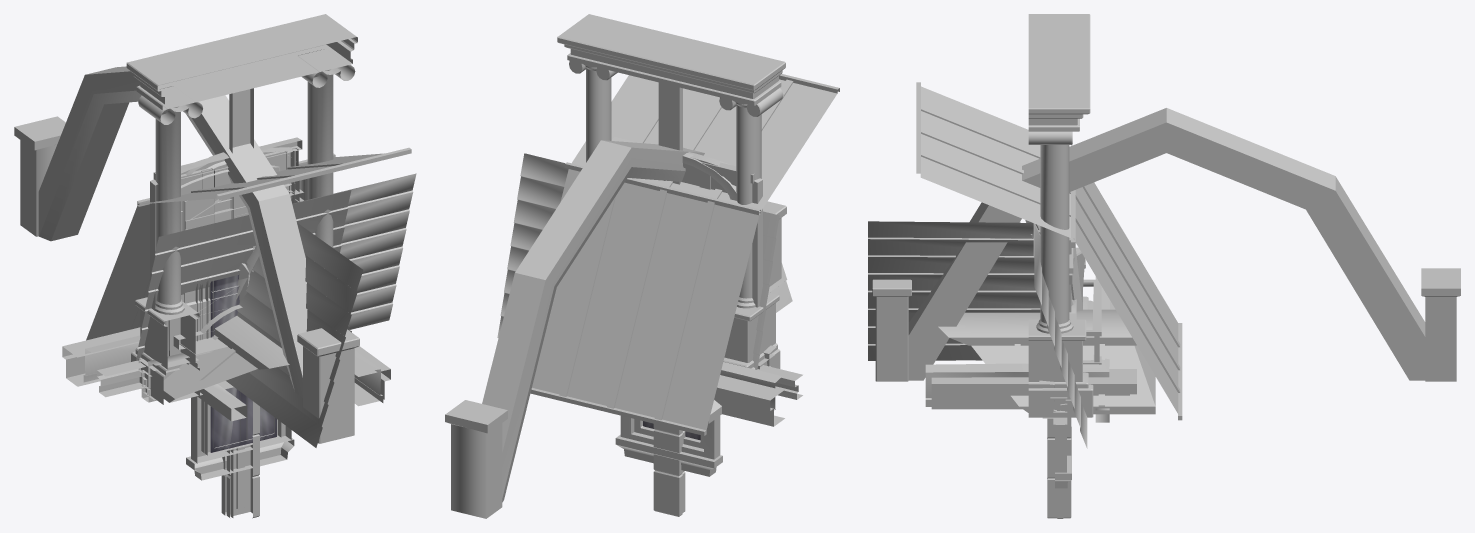
Rendered from bina_parcalar.fbx.
3 views of the same model, side by side, from view 1: azimuth 30°, elevation 25°; view 2: azimuth 150°, elevation 25°; view 3: azimuth 270°, elevation 25° (orthographic). The views are drawn at different scales.
Visible parts, largest first — view 1: catı_stun3, stun4, catı2, catı3, catı1, windo4, catı4, kapı1, stu9, kapı2, zemin1_L, windo8 (+5 smaller); view 2: catı3, catı_stun3, stun4, catı2, windo4, stun5, stu9, stun3, kapı1, catı1, kapı3, zemin1_L (+2 smaller); view 3: catı_stun3, catı3, stun4, catı2, catı4, stu9, zemin1_L, stun5, windo4, balkon.
Part boxes in pixels (x1,y1,x2,y2): catı_stun3: (14, 66, 359, 443); stun4: (126, 14, 357, 404); catı2: (226, 173, 416, 447); catı3: (86, 147, 411, 340); catı1: (136, 190, 351, 360); windo4: (186, 288, 294, 480); catı4: (163, 316, 289, 402); kapı1: (150, 147, 294, 356); stu9: (62, 327, 390, 406); kapı2: (153, 137, 302, 355); zemin1_L: (83, 335, 383, 402); windo8: (185, 189, 304, 340); catı3: (530, 74, 839, 435); catı_stun3: (445, 140, 786, 518); stun4: (557, 14, 785, 369); catı2: (497, 153, 792, 337); windo4: (615, 415, 722, 476); stun5: (653, 424, 682, 516); stu9: (714, 375, 784, 426); stun3: (658, 82, 682, 184); kapı1: (683, 152, 762, 307); catı1: (752, 211, 779, 369); kapı3: (682, 153, 736, 200); zemin1_L: (720, 362, 782, 410); catı_stun3: (872, 108, 1460, 381); catı3: (916, 82, 1182, 420); stun4: (1028, 14, 1093, 417); catı2: (868, 220, 1087, 448); catı4: (938, 309, 1155, 414); stu9: (931, 300, 1136, 409); zemin1_L: (925, 276, 1109, 406); stun5: (1047, 284, 1071, 518); windo4: (1055, 299, 1076, 488); balkon: (1083, 279, 1101, 364).
Size of the model in its own units: 764 by 1127 by 1339.
